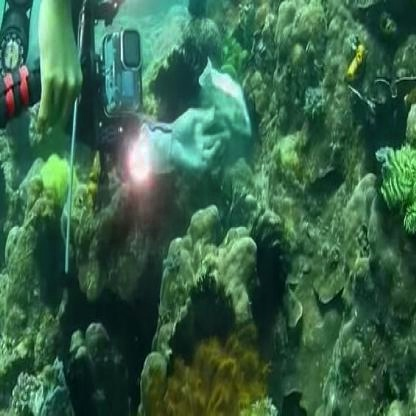Mask: (199, 50, 252, 146)
